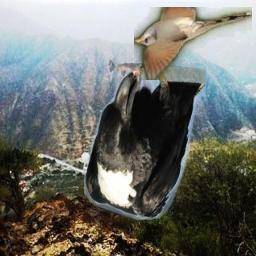Crow: (84, 59, 206, 223)
Cuckoo: (134, 7, 252, 80)
